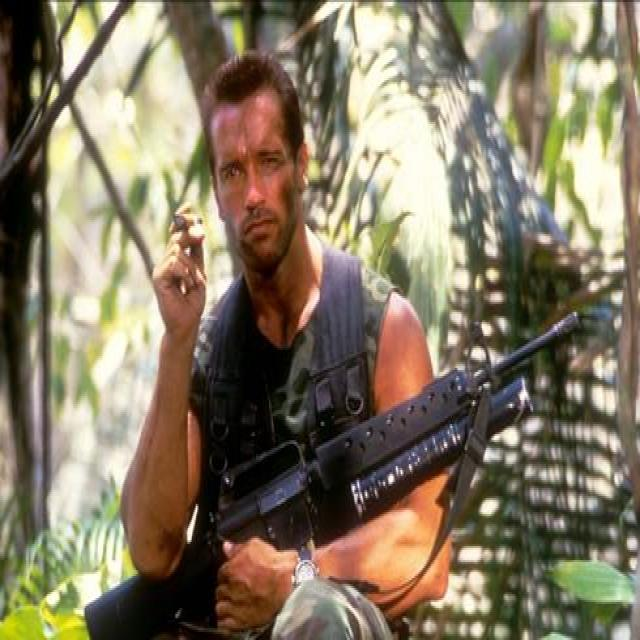cigarette: (163, 200, 210, 224)
